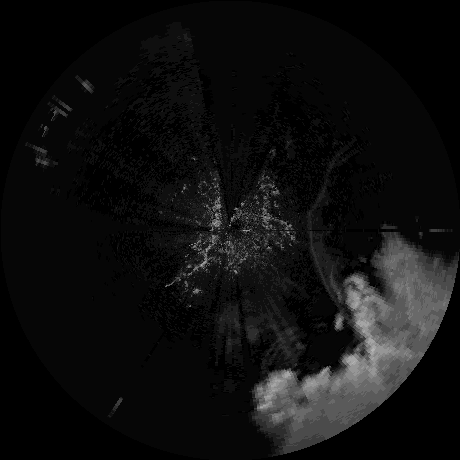frontgust: (307, 180, 339, 300)
